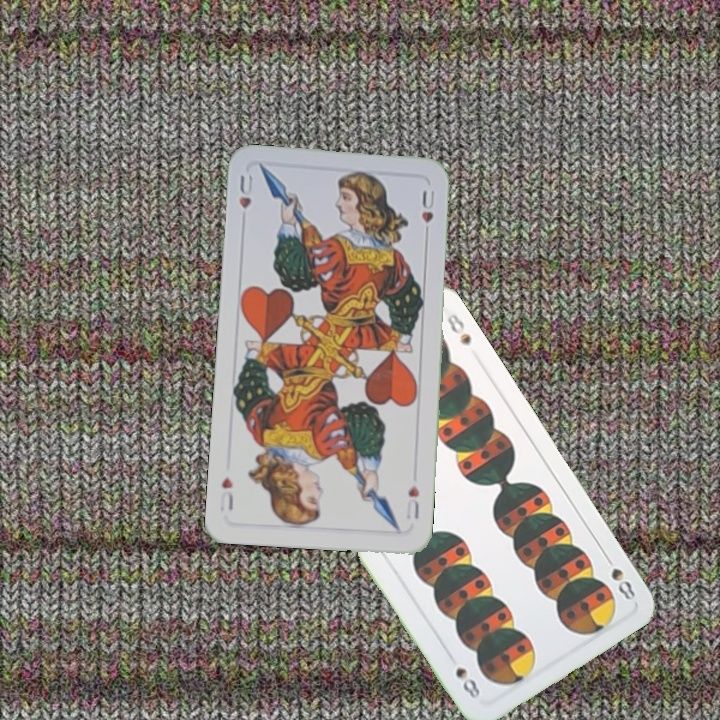HU: (402, 481, 422, 522), (235, 171, 255, 211)
S8: (599, 549, 638, 604)
